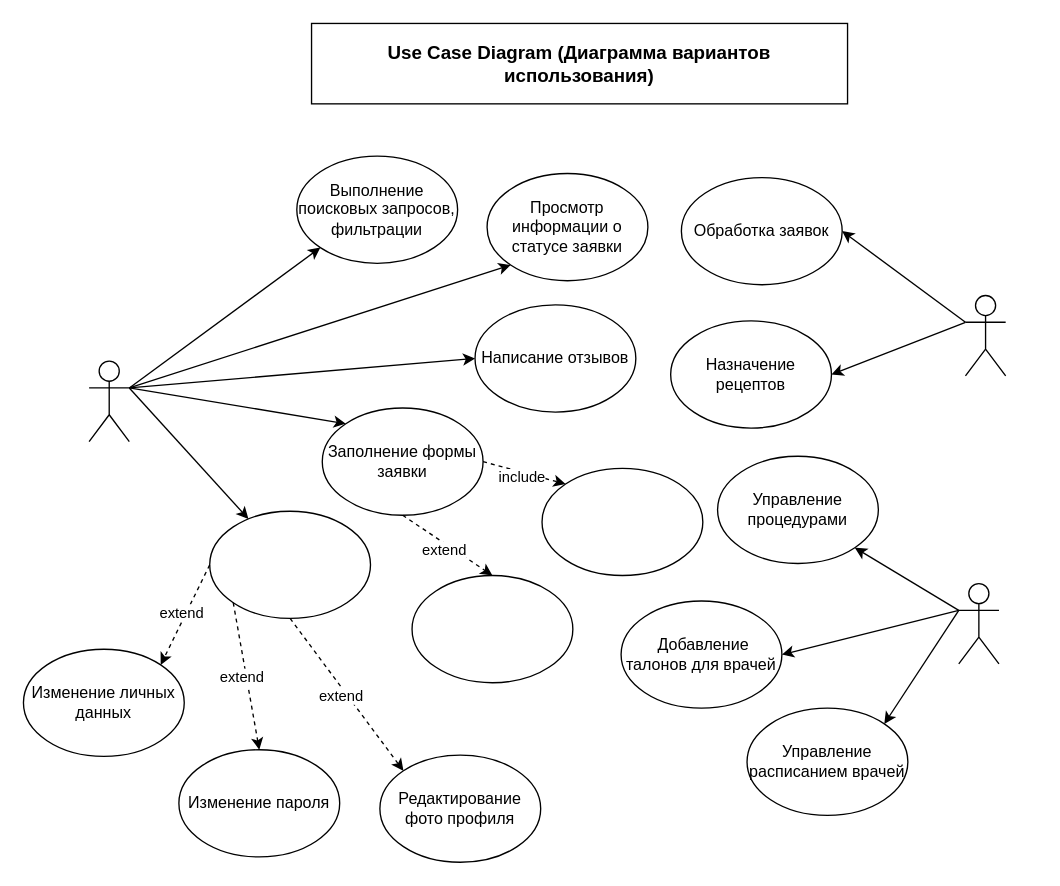
Image size: 1060x886. Some labels were removed from this diagram. The shapes that lost their labels are listed below. From the top down, each one's centre as x and y in pixels, then its label:
pixel 985 335: Врач
pixel 108 401: Пациент
pixel 622 521: Заполнение личной информации (email)
pixel 289 564: Управление личным кабинетом
pixel 492 628: Получить уведомление о записи
pixel 978 623: Администратор
